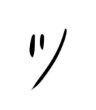tsu: (23, 21, 70, 93)
